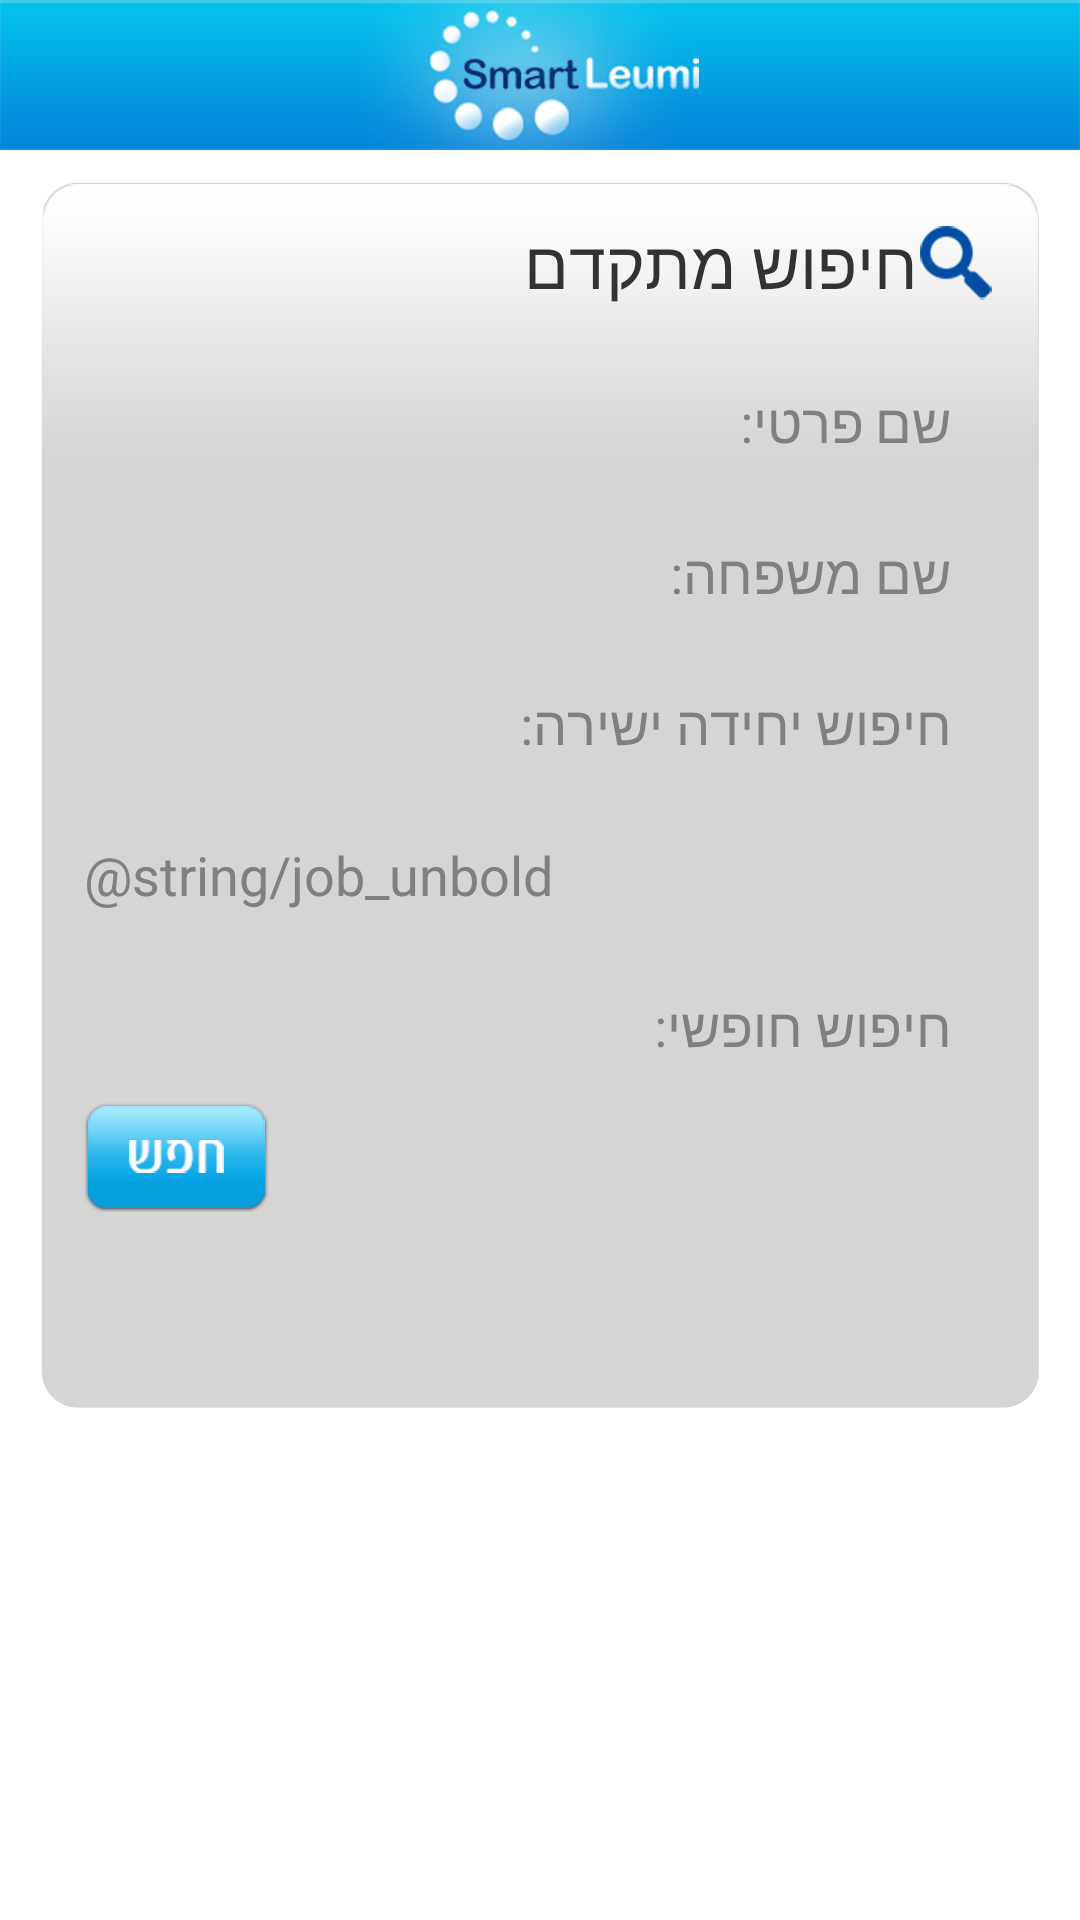

Point at icon controls on the screen. Image size 1080 × 1920, points as point (x, y).
searchpic: point (956, 263)
